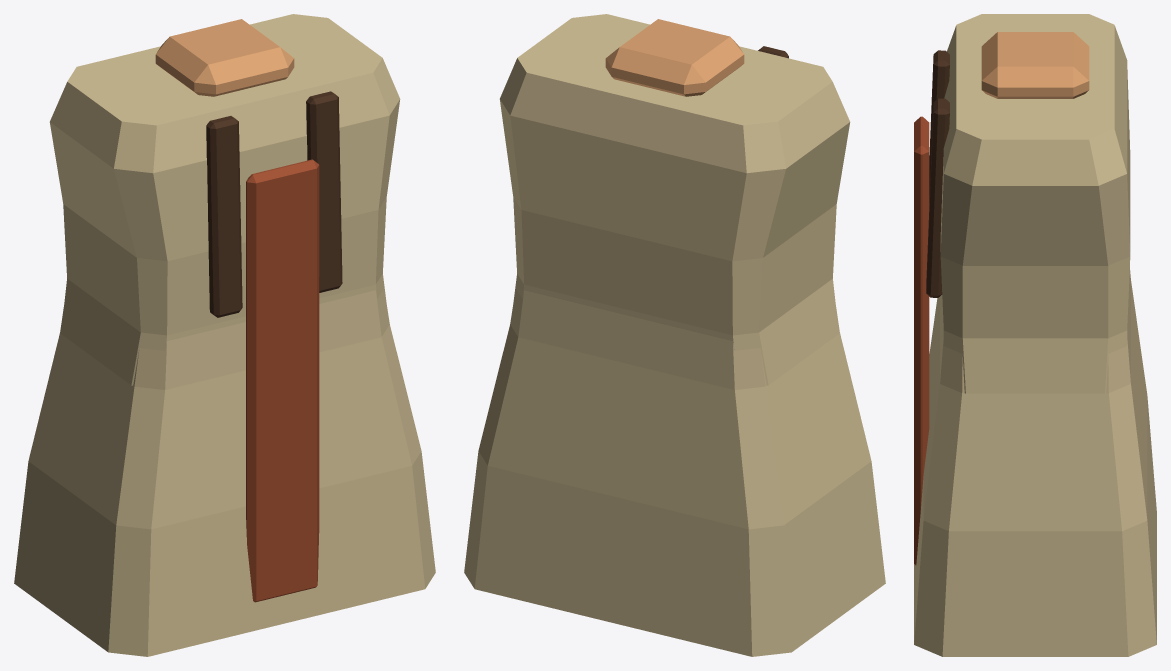
The model's file is SM_NPC_Torso_04_Robe.glb.
3 renders of one model, left to right at view 1: azimuth 30°, elevation 25°; view 2: azimuth 150°, elevation 25°; view 3: azimuth 270°, elevation 25°, orthographic.
Parts seen in each view (by area): view 1: SM_NPC_Torso_04_Robe; view 2: SM_NPC_Torso_04_Robe; view 3: SM_NPC_Torso_04_Robe.
Part boxes in pixels (<box>): SM_NPC_Torso_04_Robe: <box>14,14,435,656</box>; SM_NPC_Torso_04_Robe: <box>464,14,885,656</box>; SM_NPC_Torso_04_Robe: <box>914,14,1156,656</box>.
Size of the model in its own units: 0.59 by 0.923 by 0.384.
